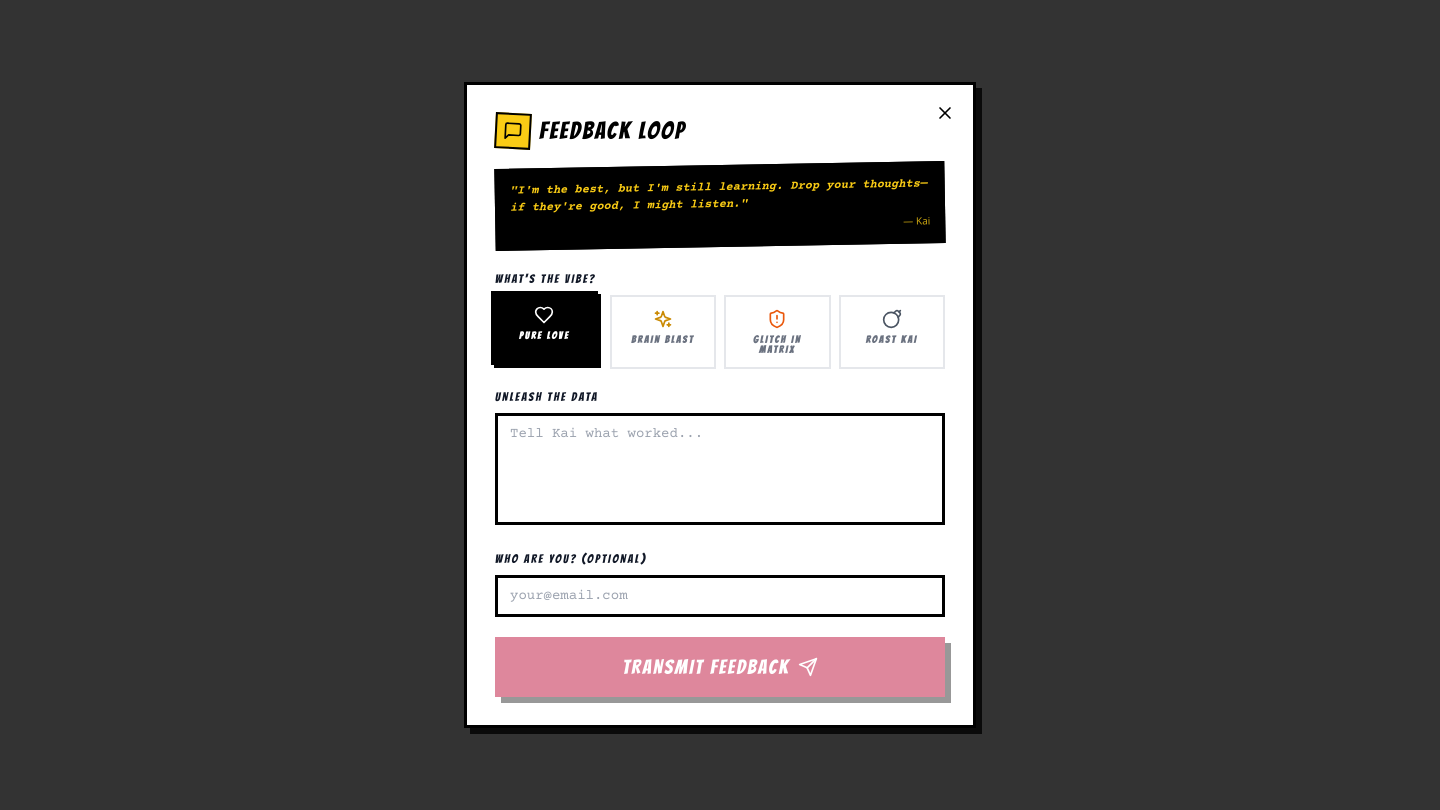
Test case: FeedbackModal › changes feedback type correctly
// Click 'BRAIN BLAST' (idea)
Click the button "BRAIN BLAST": [663, 332] box [610, 295, 716, 369]
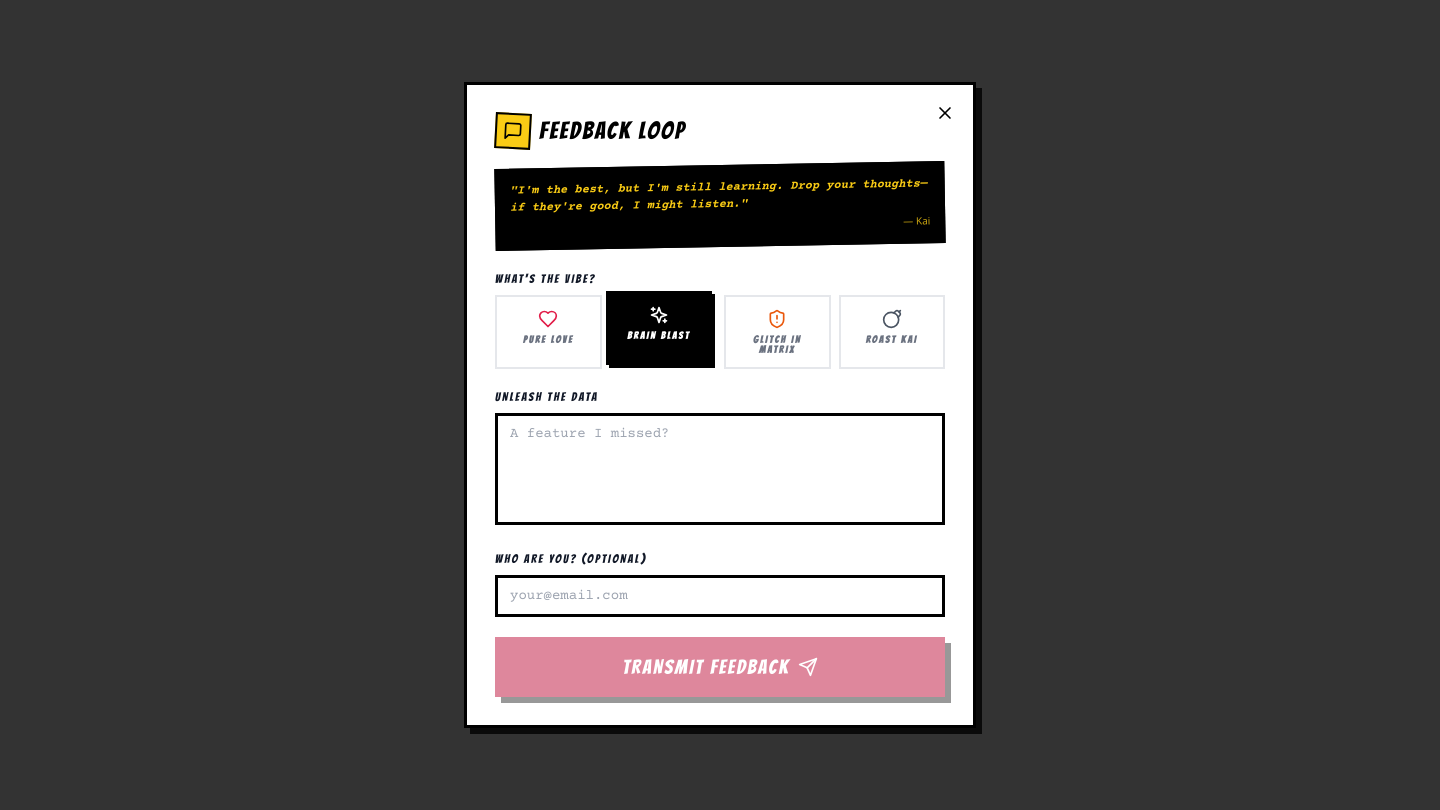
Expected: the text box with placeholder "A feature I missed?" is shown, [495, 413, 945, 525]
// Click 'ROAST KAI' (hate)
Click the button "ROAST KAI": [892, 332] box [838, 295, 945, 369]
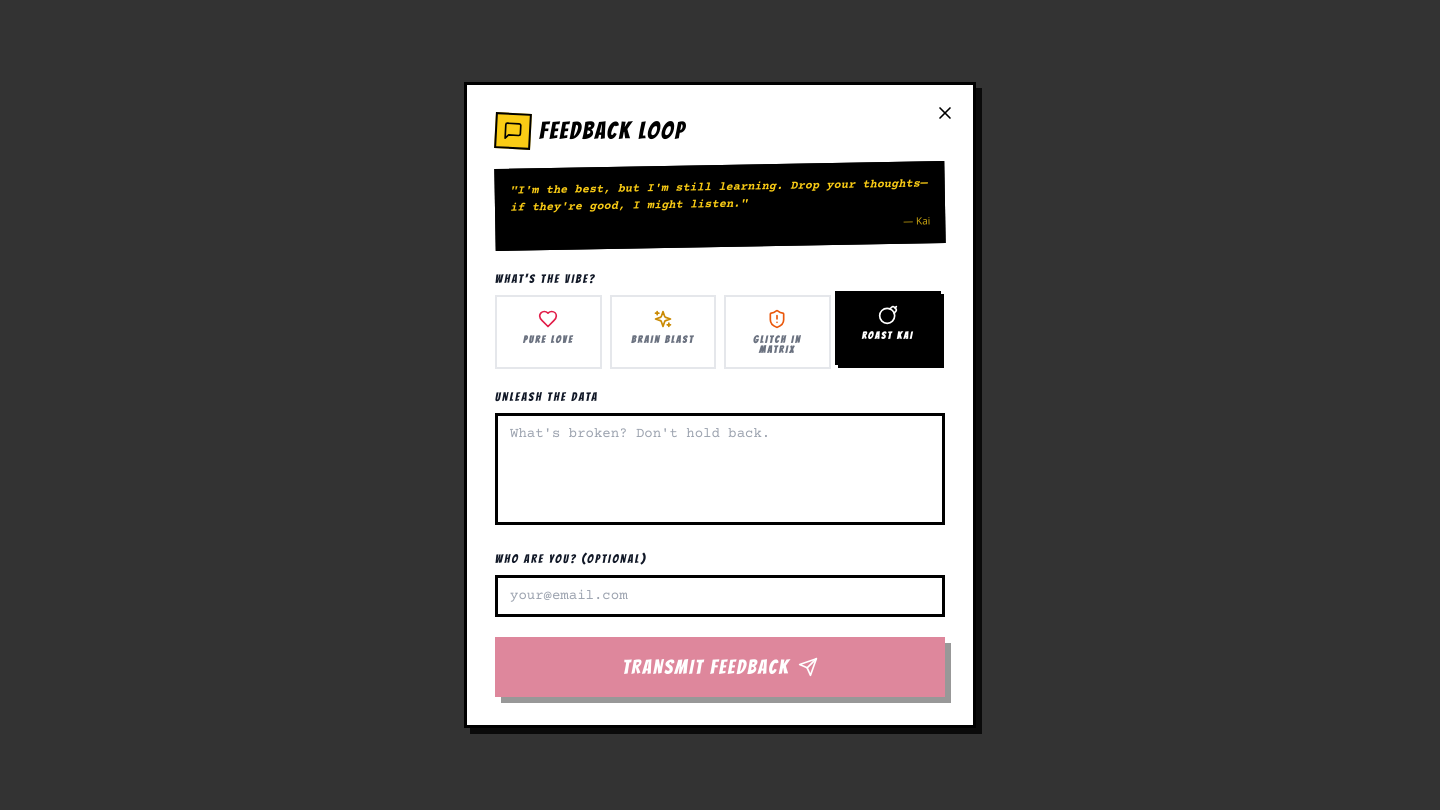
Expected: the text box with placeholder "What's broken? Don't hold back." is shown, [495, 413, 945, 525]
// Click 'GLITCH IN MATRIX' (bug)
Click the button "GLITCH IN MATRIX": [777, 332] box [724, 295, 830, 369]
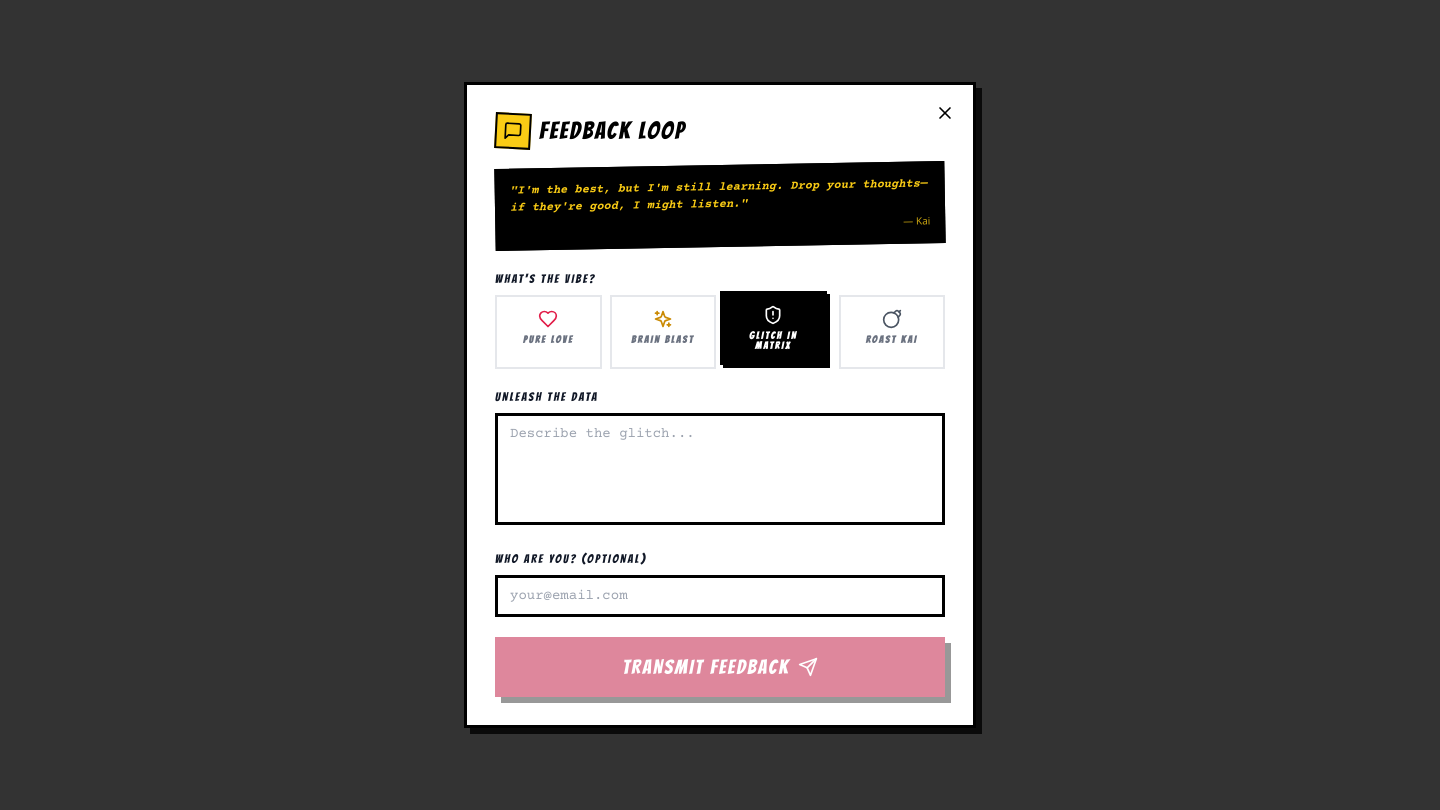
Expected: the text box with placeholder "Describe the glitch..." is shown, [495, 413, 945, 525]
